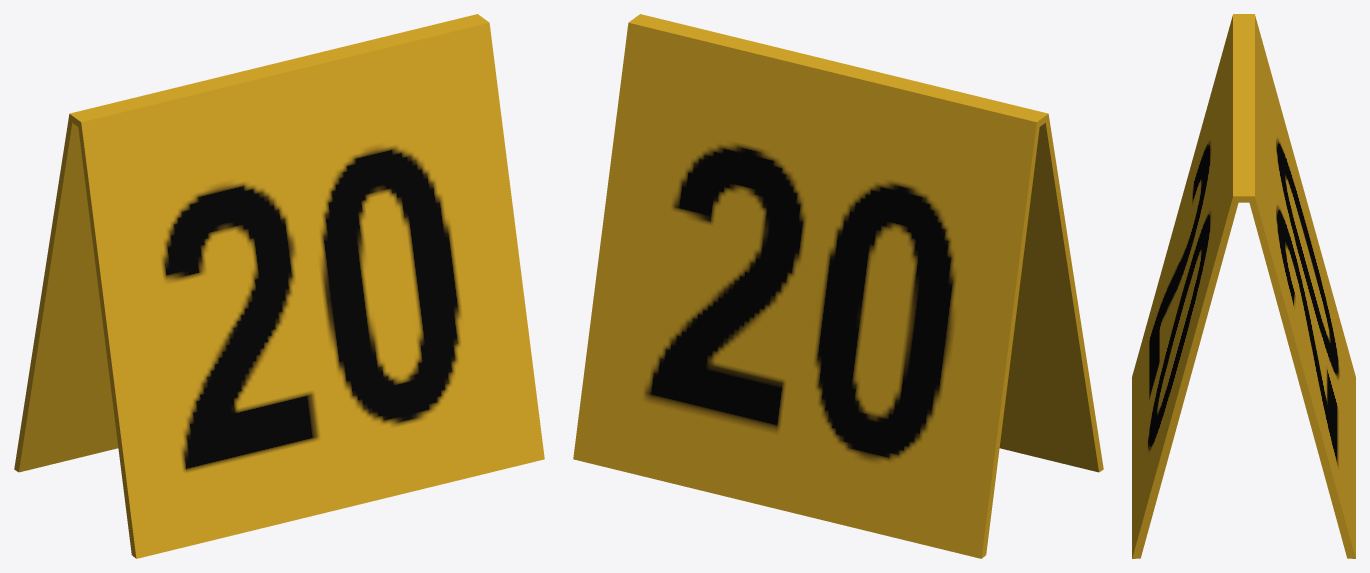
The model's file is card_20.fbx.
3 views of the same model, side by side, from view 1: azimuth 30°, elevation 25°; view 2: azimuth 150°, elevation 25°; view 3: azimuth 270°, elevation 25° (orthographic). The views are drawn at different scales.
Parts seen in each view (by area): view 1: card.020; view 2: card.020; view 3: card.020.
Boxes of the visible parts, x1,y1,x2,y2 form: card.020: (14, 14, 544, 558); card.020: (573, 14, 1103, 558); card.020: (1132, 14, 1355, 558).
Bounding box in the file's own units: 17.96 × 16.65 × 9.31.
